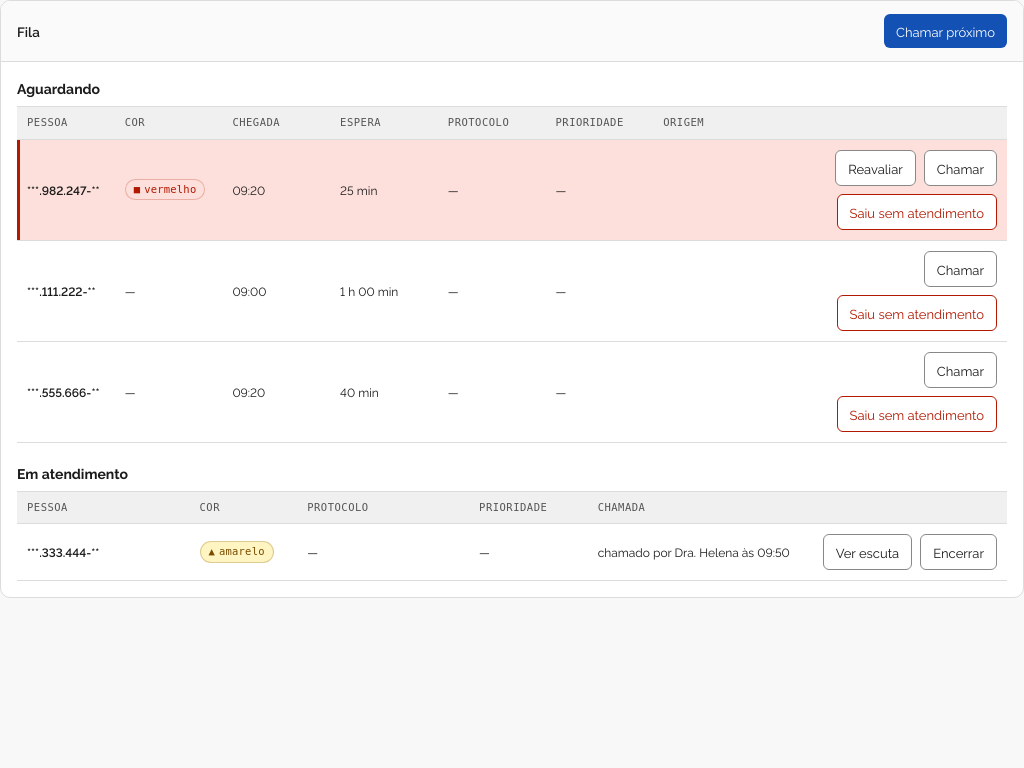
it: UnitQueue — acolhimento (módulo 18) › Reavaliar recusado trata a recusa clínica e mostra a frase
The width and height of the screenshot is (1024, 768).
Click the button "Reavaliar" at (876, 168), box x1=835 y1=150 x2=916 y2=186
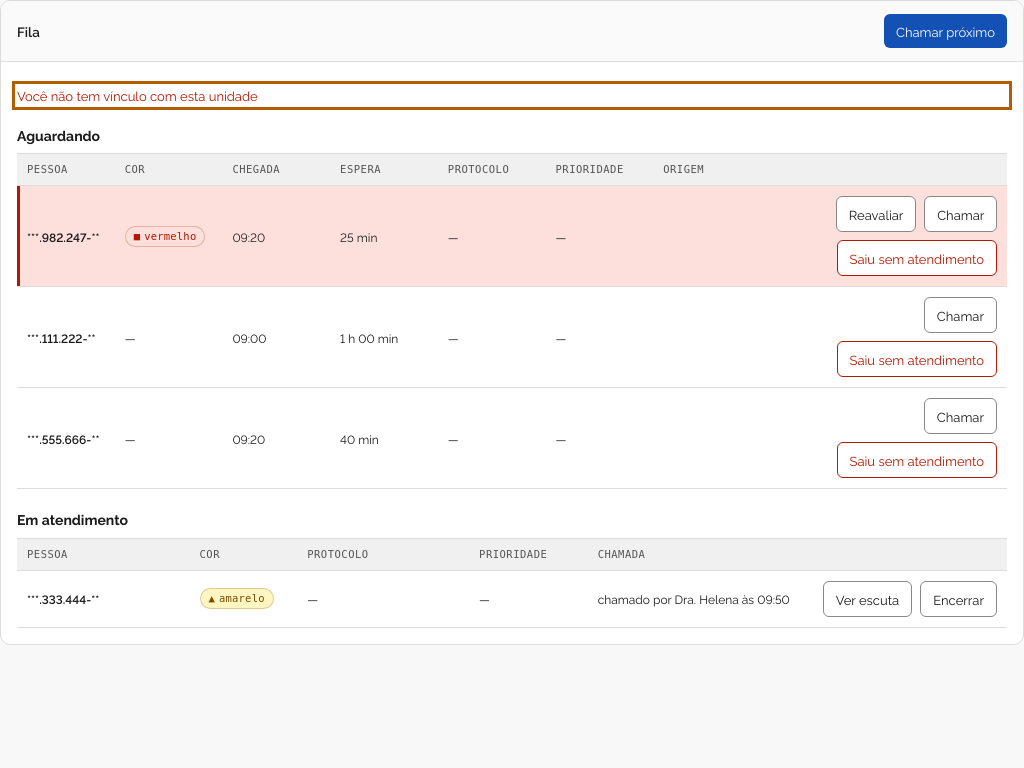
Now the message "Você não tem vínculo com esta unidade" is shown, box x1=17 y1=86 x2=258 y2=104
